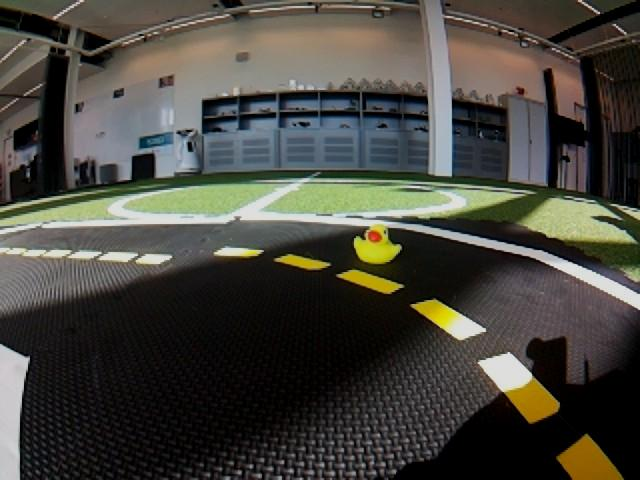Duckies: (352, 224, 402, 264)
